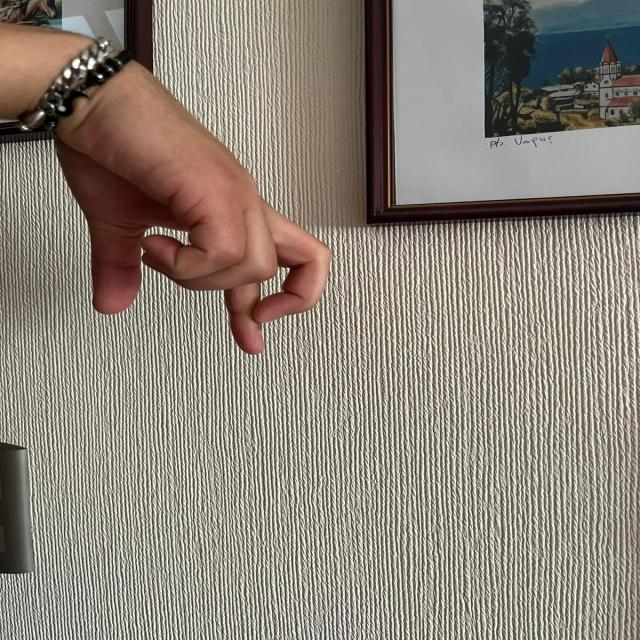P: (42, 58, 342, 369)
